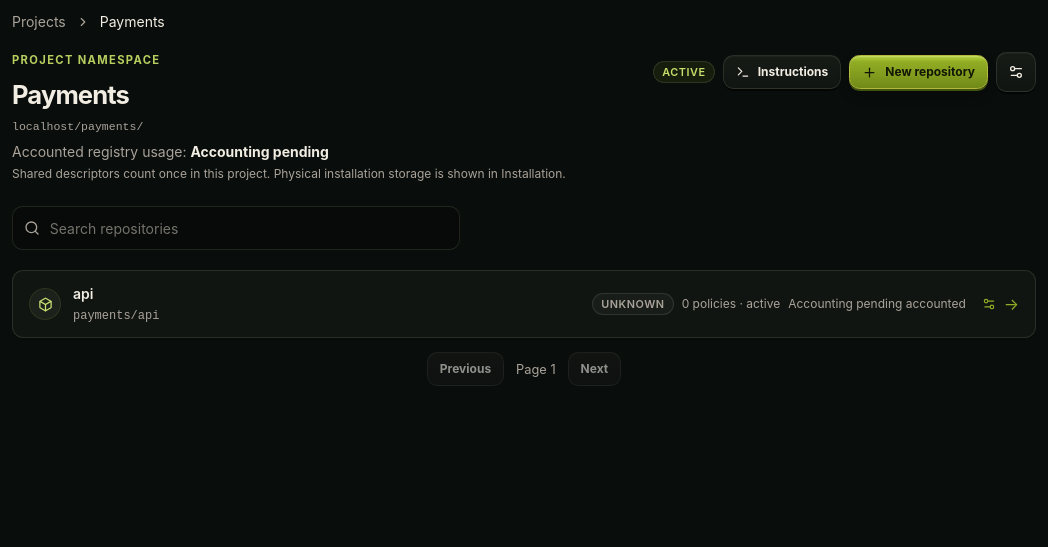
it: ProjectPage membership management › keeps loaded repositories visible when a refetch fails
Click the button "New repository".
click(919, 72)  # box [849,55,988,89]
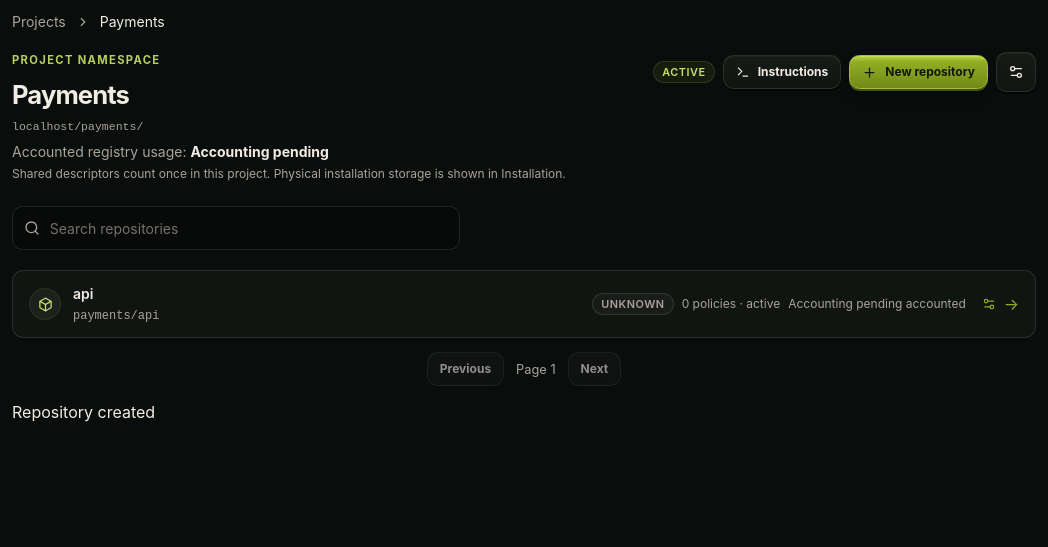
Click the button "Repository created".
click(84, 412)  # box [12,400,155,424]
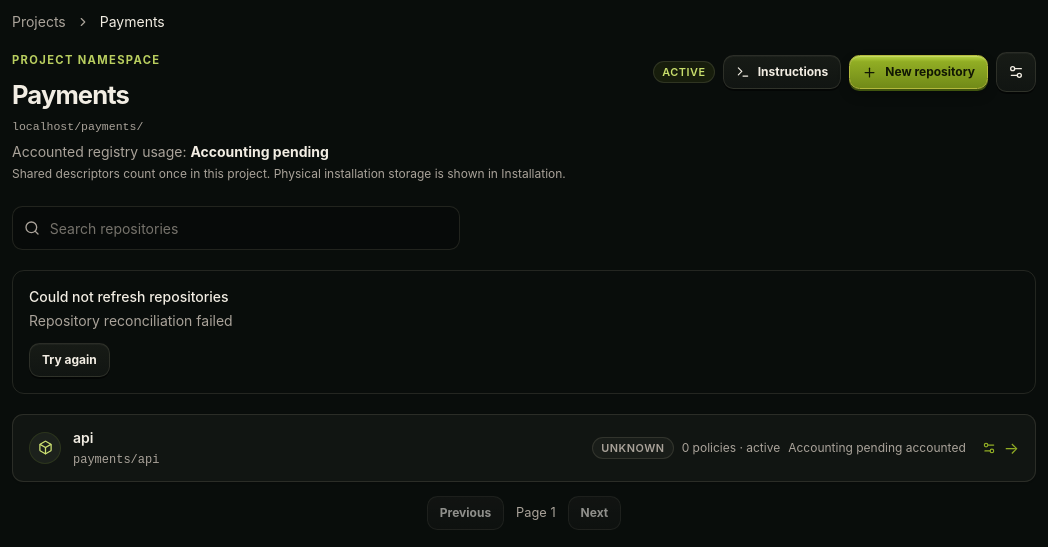
Expected: the text "api" is shown, [73,429,94,446]
Now the message "Could not refresh repositories Repository reconciliation failed Try again" is shown, box [12,270,1036,394]
